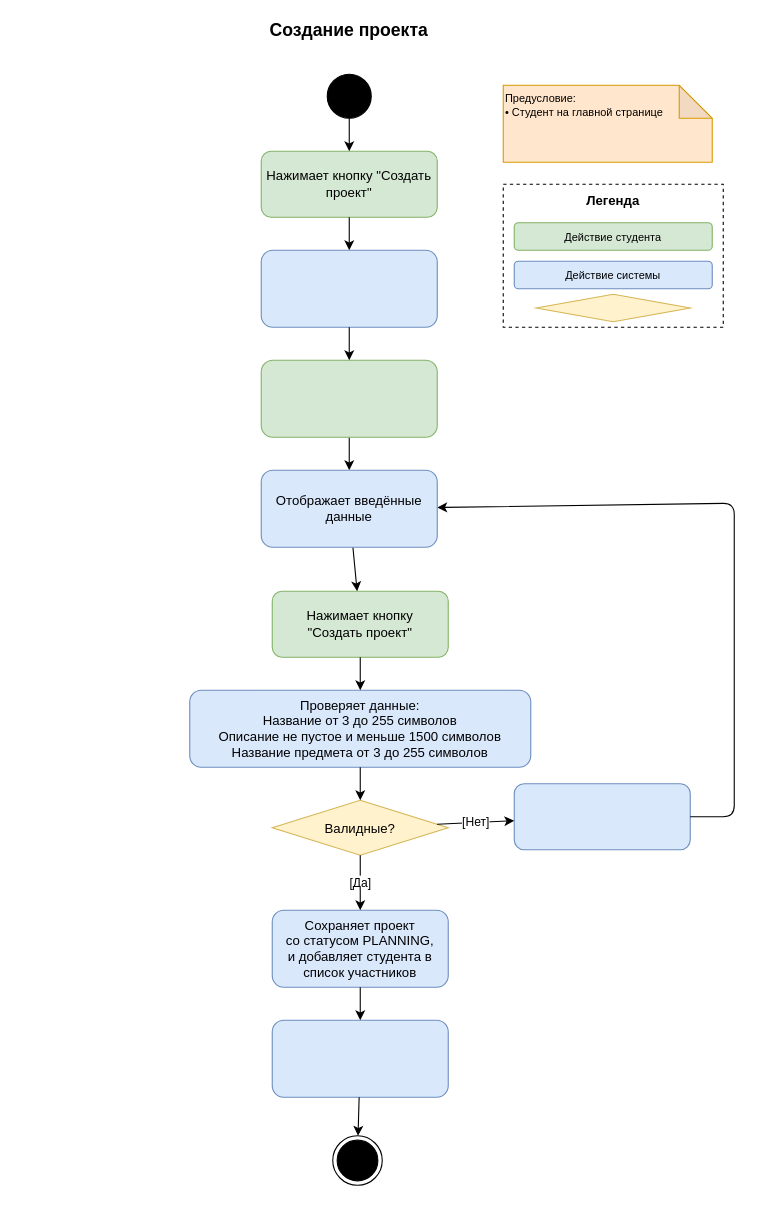
Image size: 762x1205. Some labels were removed from this diagram. Each missing label, with the centre of its shape:
Вводит данные: название, предмет, описание: point (348, 398)
Отображает страницу проекта с уведомлением "Проект создан": point (359, 1058)
Отображает форму с полями: название, предмет, описание: point (348, 288)
Показывает ошибку валидации: point (601, 816)
Условия: point (612, 307)
